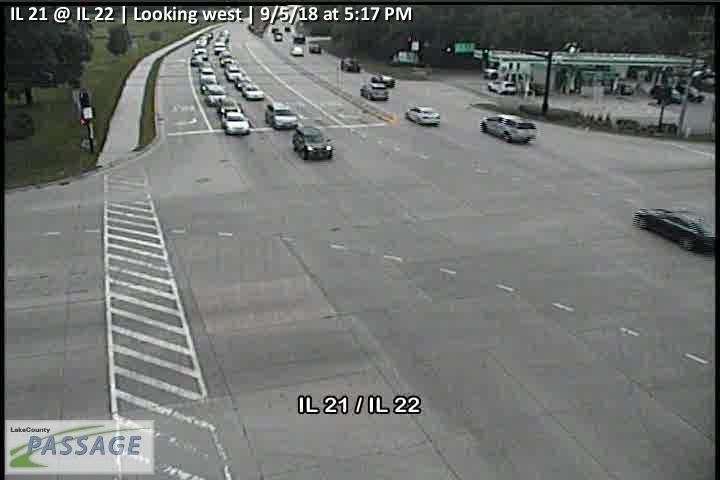SUV: (480, 114, 538, 142), (292, 126, 334, 160), (265, 101, 299, 129), (360, 82, 389, 101), (224, 63, 242, 81), (340, 57, 361, 72), (200, 66, 218, 83)
Sedan: (634, 207, 716, 251), (221, 111, 250, 136), (407, 105, 441, 125), (203, 84, 226, 104), (216, 97, 241, 114), (371, 74, 396, 88), (242, 84, 265, 99), (234, 76, 250, 88), (289, 46, 304, 56)
